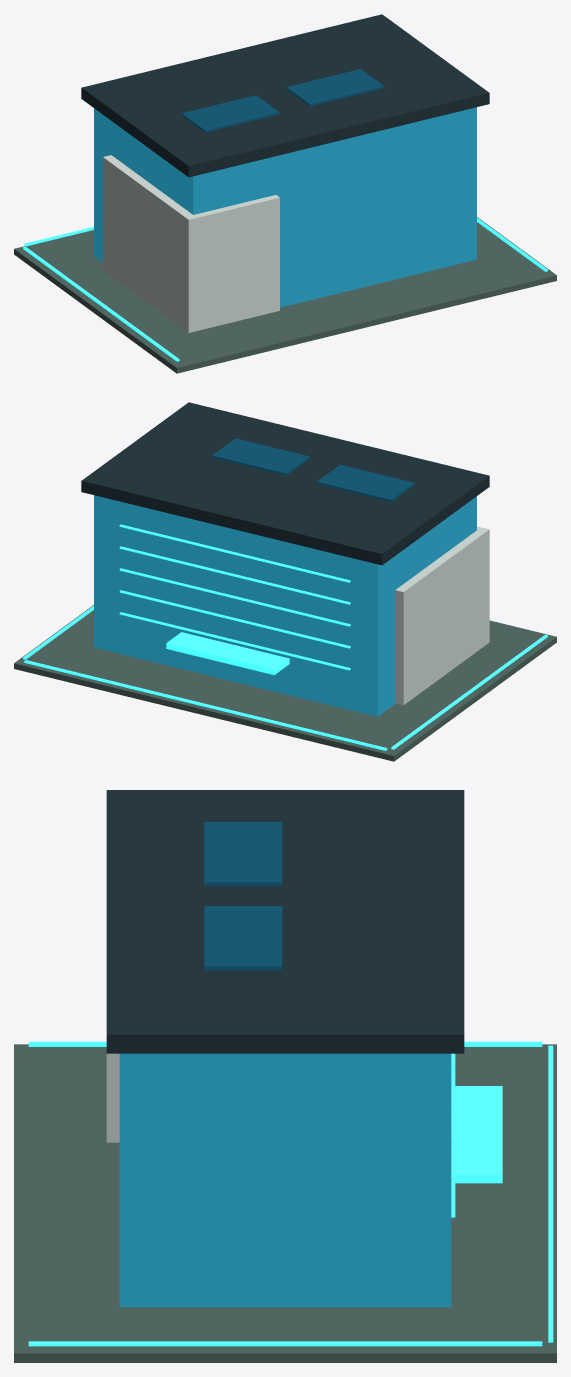
The model's file is office-module.glb.
The picture shows the model from 3 angles, top to bottom: view 1: azimuth 30°, elevation 25°; view 2: azimuth 150°, elevation 25°; view 3: azimuth 270°, elevation 25°; orthographic projection. The views are drawn at different scales.
Visible parts, largest first — view 1: rj-office-building-module-main-glass-office, rj-office-building-module-roof-cap, rj-office-building-module-service-pad, rj-office-building-module-white-side-wing, rj-office-building-module-roof-solar-left, rj-office-building-module-roof-solar-right, rj-office-building-module-side-glow-rail-left; view 2: rj-office-building-module-main-glass-office, rj-office-building-module-roof-cap, rj-office-building-module-service-pad, rj-office-building-module-white-side-wing, rj-office-building-module-entry-canopy, rj-office-building-module-roof-solar-left, rj-office-building-module-roof-solar-right, rj-office-building-module-front-glow-rail, rj-office-building-module-side-glow-rail-left, rj-office-building-module-window-band-2, rj-office-building-module-window-band-3, rj-office-building-module-window-band-5 (+2 smaller); view 3: rj-office-building-module-roof-cap, rj-office-building-module-main-glass-office, rj-office-building-module-service-pad, rj-office-building-module-roof-solar-left, rj-office-building-module-roof-solar-right, rj-office-building-module-entry-canopy, rj-office-building-module-side-glow-rail-right, rj-office-building-module-front-glow-rail, rj-office-building-module-white-side-wing, rj-office-building-module-side-glow-rail-left.
Part boxes in pixels (x1,y1,x2,y2): rj-office-building-module-main-glass-office: [94, 107, 476, 307]; rj-office-building-module-roof-cap: [81, 14, 489, 177]; rj-office-building-module-service-pad: [14, 217, 556, 373]; rj-office-building-module-white-side-wing: [103, 155, 279, 332]; rj-office-building-module-roof-solar-left: [181, 95, 279, 132]; rj-office-building-module-roof-solar-right: [286, 69, 384, 105]; rj-office-building-module-side-glow-rail-left: [23, 246, 179, 361]; rj-office-building-module-main-glass-office: [94, 495, 476, 716]; rj-office-building-module-roof-cap: [81, 402, 489, 565]; rj-office-building-module-service-pad: [14, 605, 556, 761]; rj-office-building-module-white-side-wing: [395, 526, 489, 705]; rj-office-building-module-entry-canopy: [166, 632, 289, 675]; rj-office-building-module-roof-solar-left: [317, 464, 414, 501]; rj-office-building-module-roof-solar-right: [212, 438, 309, 475]; rj-office-building-module-front-glow-rail: [24, 660, 387, 750]; rj-office-building-module-side-glow-rail-left: [391, 634, 547, 749]; rj-office-building-module-window-band-2: [119, 590, 350, 648]; rj-office-building-module-window-band-3: [119, 568, 350, 626]; rj-office-building-module-window-band-5: [119, 524, 350, 582]; rj-office-building-module-roof-cap: [106, 790, 464, 1053]; rj-office-building-module-main-glass-office: [119, 1053, 451, 1307]; rj-office-building-module-service-pad: [14, 1044, 556, 1362]; rj-office-building-module-roof-solar-left: [204, 822, 282, 885]; rj-office-building-module-roof-solar-right: [204, 906, 282, 969]; rj-office-building-module-entry-canopy: [455, 1086, 502, 1183]; rj-office-building-module-side-glow-rail-right: [28, 1341, 542, 1346]; rj-office-building-module-front-glow-rail: [548, 1045, 553, 1342]; rj-office-building-module-white-side-wing: [106, 1053, 119, 1142]; rj-office-building-module-side-glow-rail-left: [28, 1041, 542, 1046].
Size of the model in its own units: 11.25 by 5.13 by 8.35.
